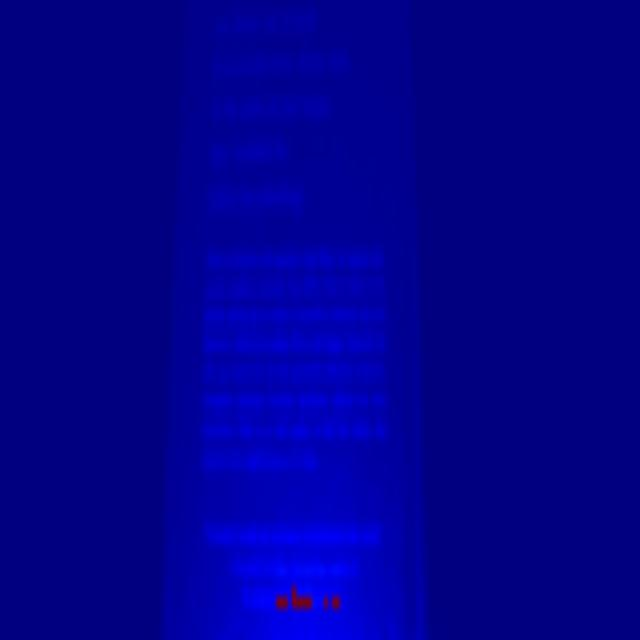rectangle: (171, 4, 436, 640)
